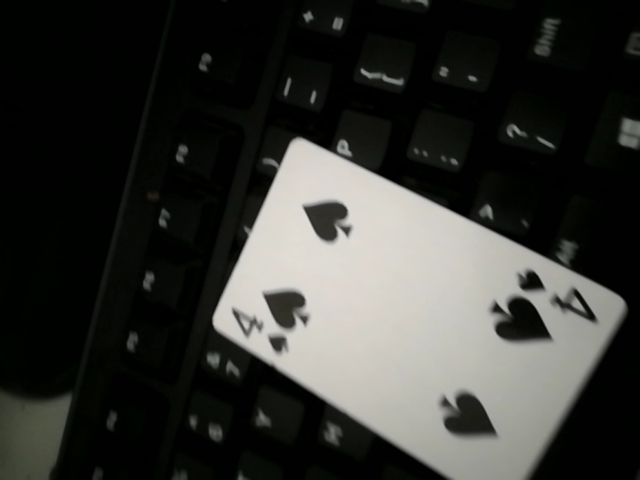ht 4: (207, 136, 631, 478)
